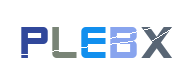B: (75, 0, 155, 80)
E: (57, 0, 137, 80)
L: (52, 0, 132, 80)
P: (0, 0, 80, 80)
X: (77, 0, 157, 80)
